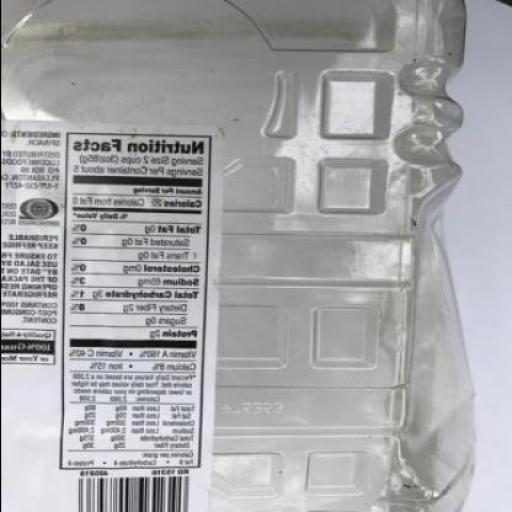plastic: (1, 1, 475, 511)
